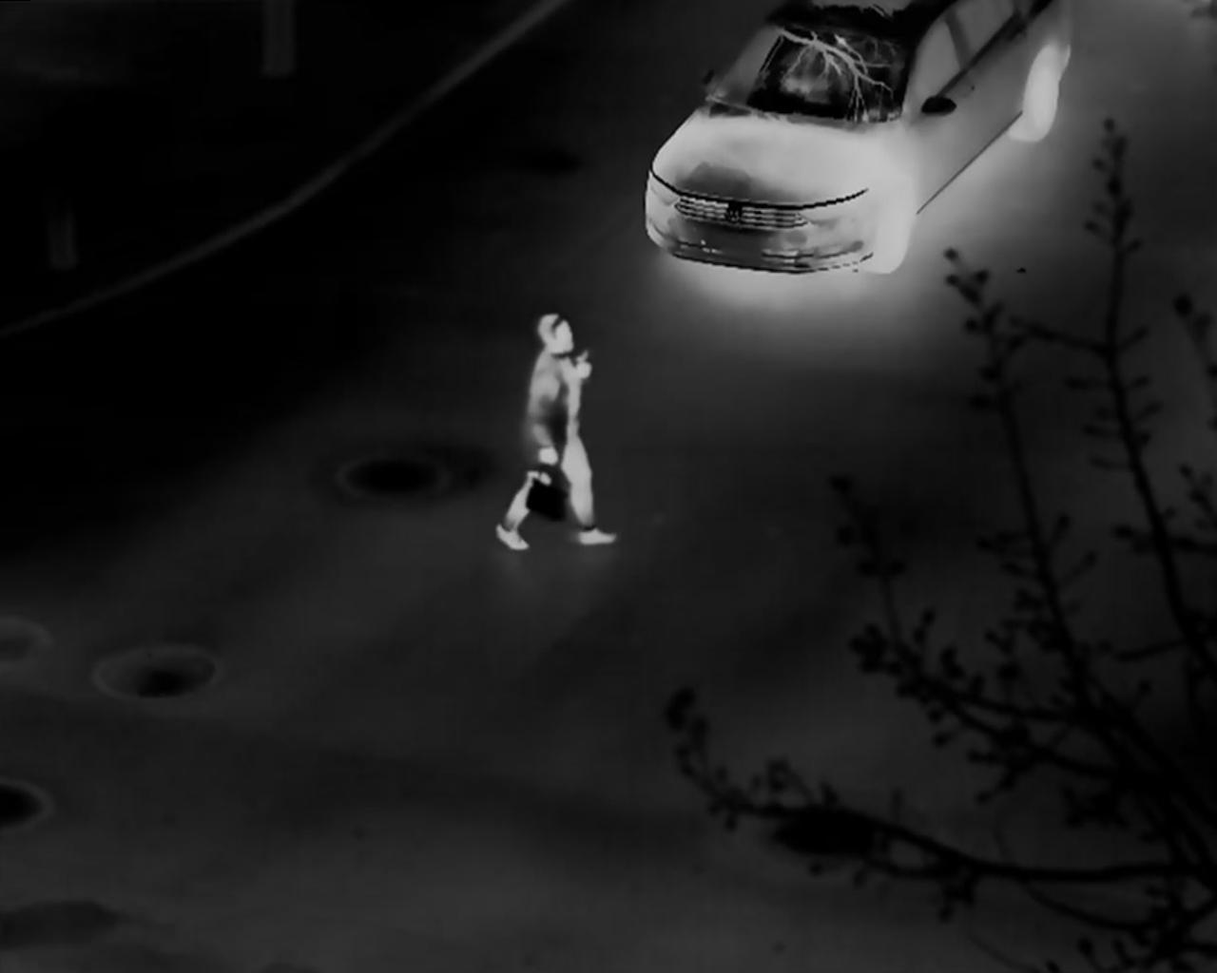person: (493, 312, 618, 553)
